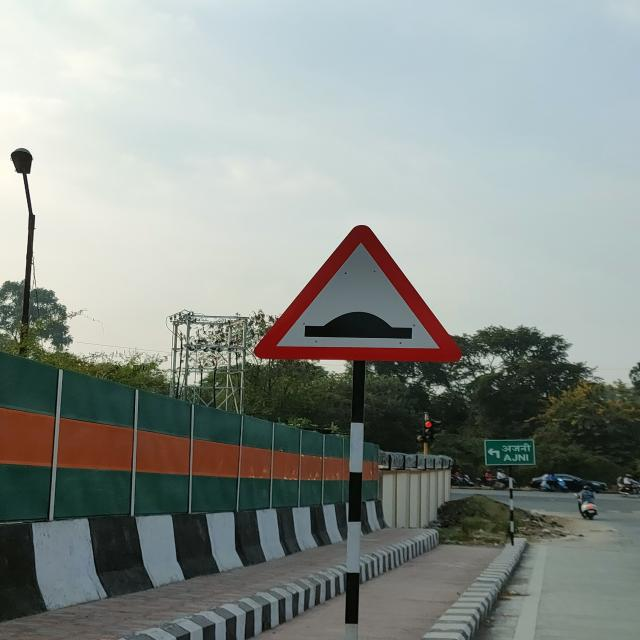HUMP_OR_ROUGH_ROAD: (255, 224, 461, 363)
